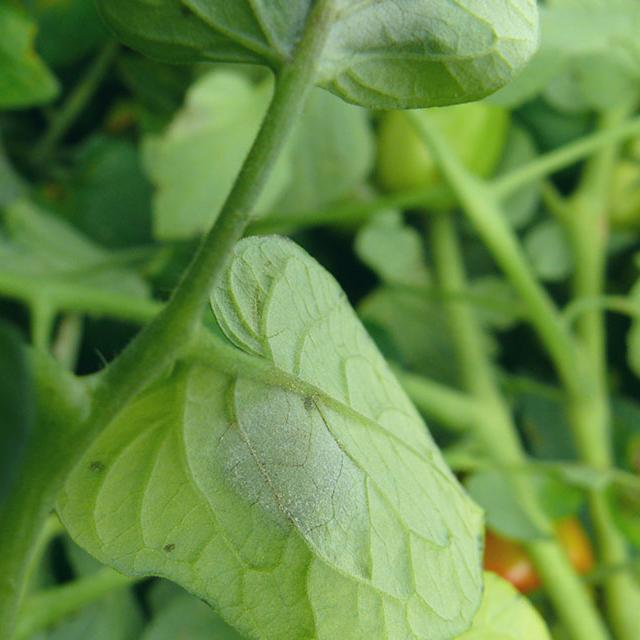Tomato leaf late blight: (50, 224, 484, 640), (37, 0, 568, 106), (67, 561, 610, 640)
